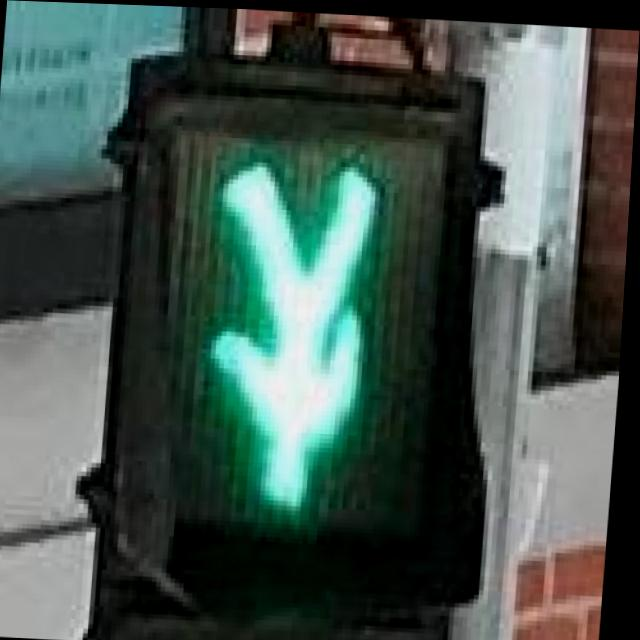green_light: (137, 113, 458, 554)
